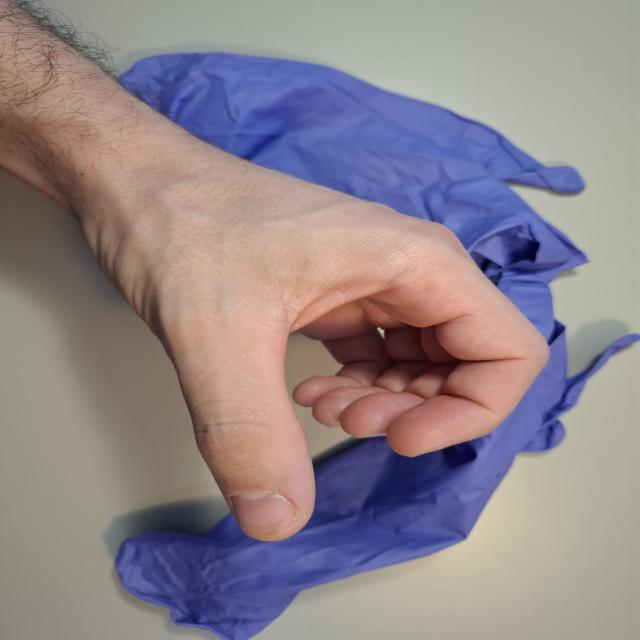glove_off: (46, 116, 552, 544)
